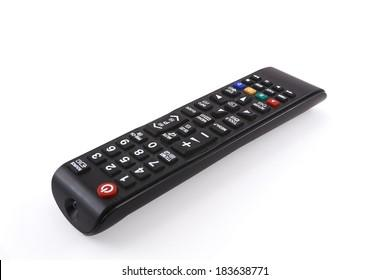Remote control: (50, 67, 327, 236)
